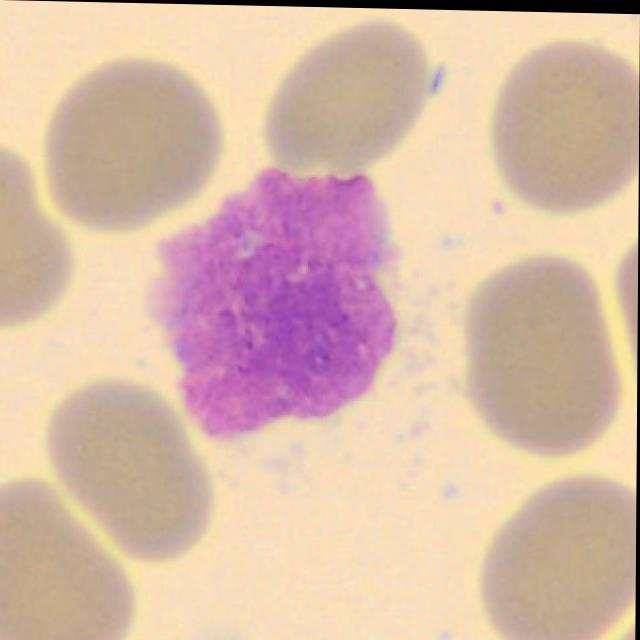Restos celulares: (146, 169, 400, 439)
